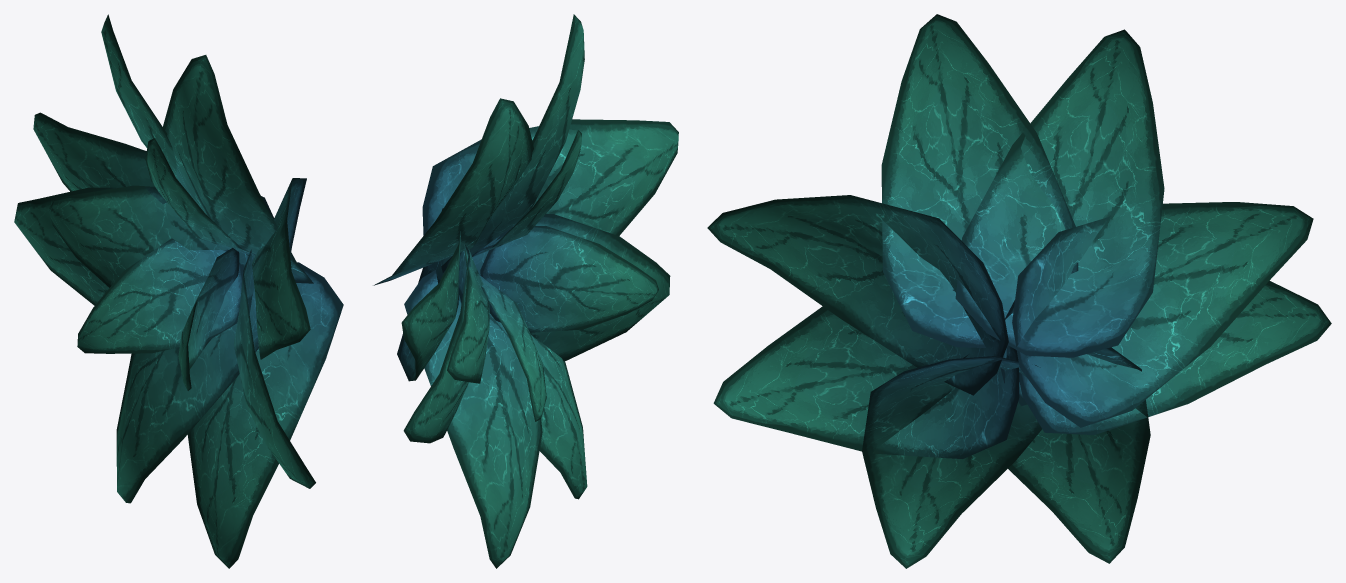
File: Shrub2.fbx
The picture shows the model from 3 angles, left to right: view 1: azimuth 30°, elevation 25°; view 2: azimuth 150°, elevation 25°; view 3: azimuth 270°, elevation 25°; orthographic projection. The views are drawn at different scales.
Parts seen in each view (by area): view 1: Shrub; view 2: Shrub; view 3: Shrub.
Boxes of the visible parts, x1,y1,x2,y2 form: Shrub: (14, 14, 343, 568); Shrub: (373, 14, 678, 568); Shrub: (707, 14, 1331, 568).
Size of the model in its own units: 117 by 114 by 41.61.
